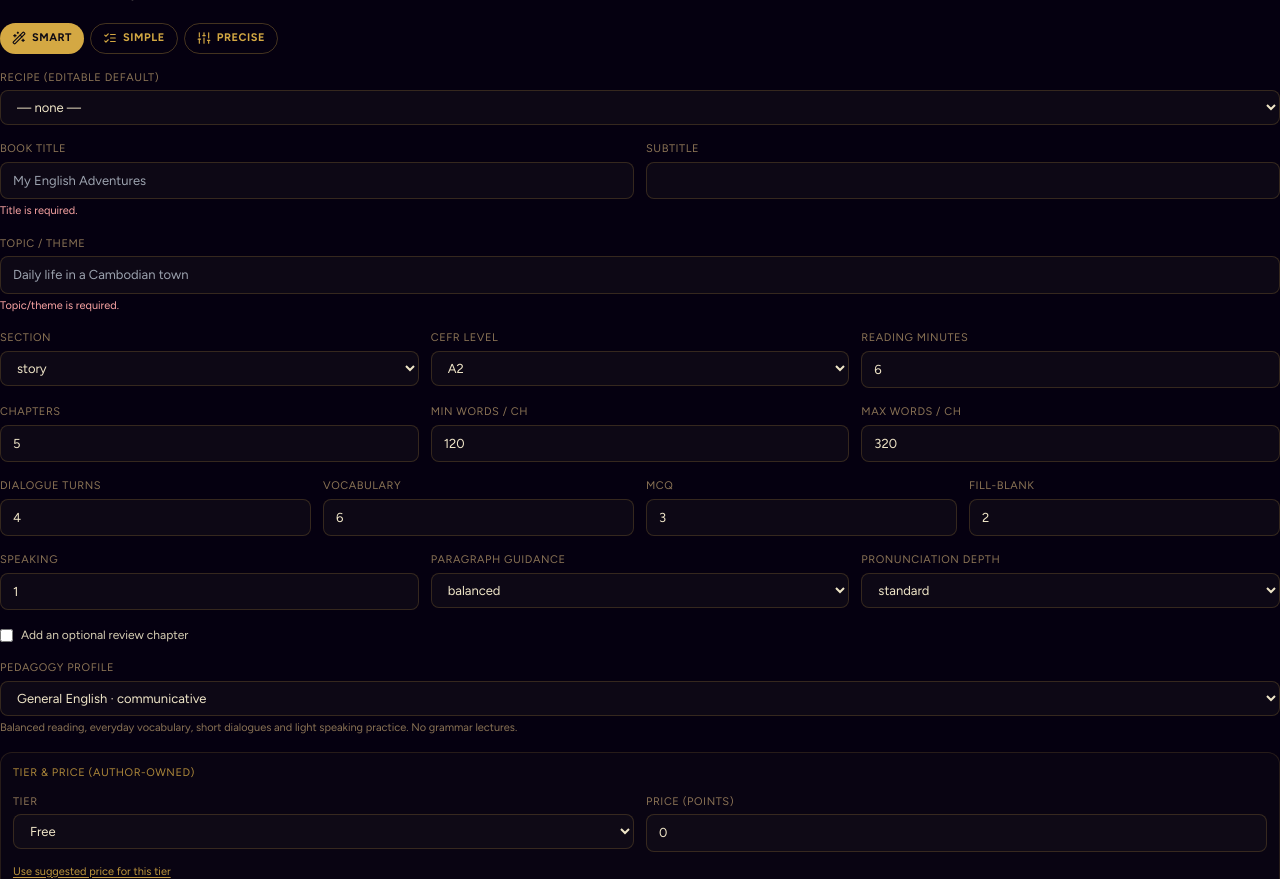
Test: duplicate Generate is prevented (synchronous guard)
The image size is (1280, 879).
Later steps or results of the test are not shown.
Step 1. Type "T" into the field with test id "bf-title" → {"x": 317, "y": 180}, box [0,162,634,199]
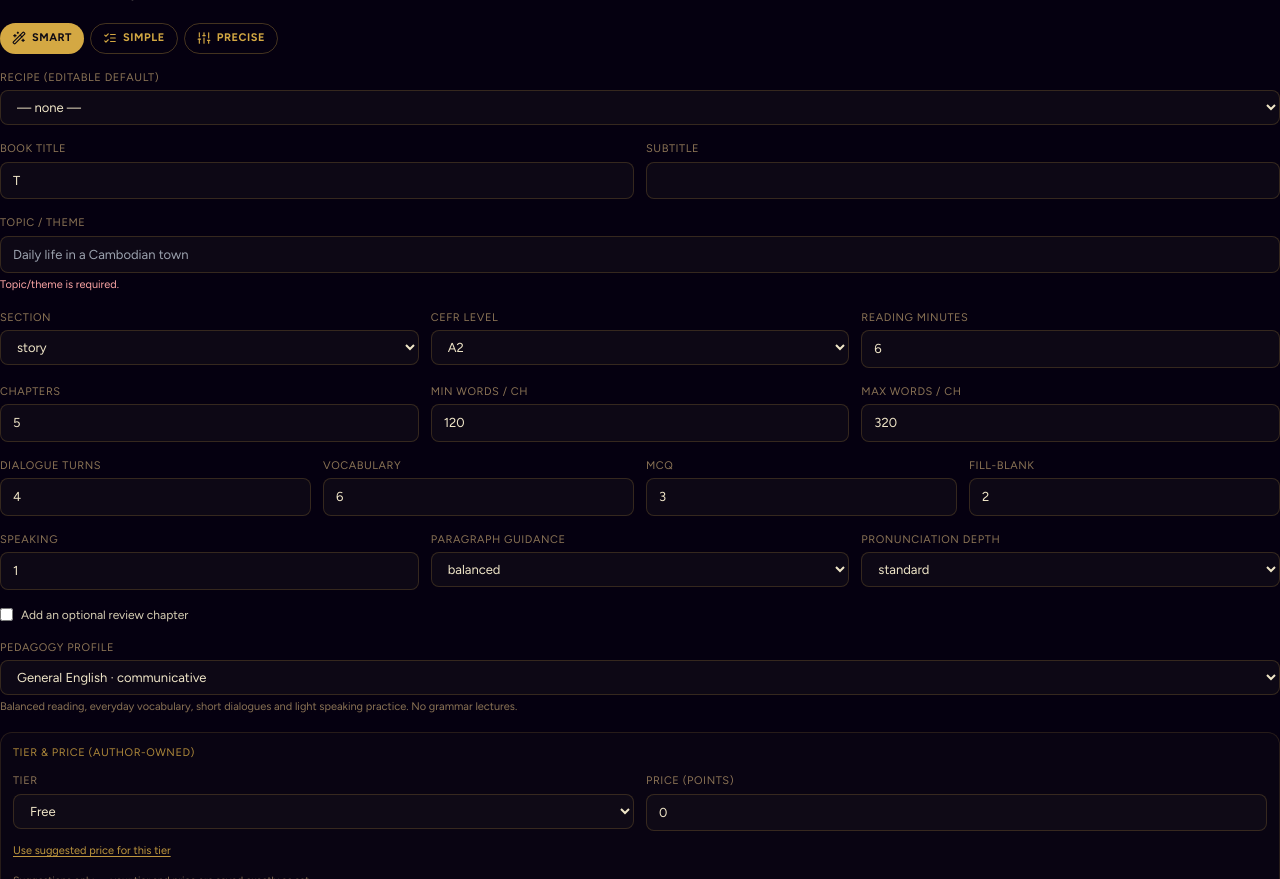
Step 2. Type "Topic" into the field with test id "bf-topic" → {"x": 640, "y": 254}, box [0,236,1279,273]
(page scrolled)
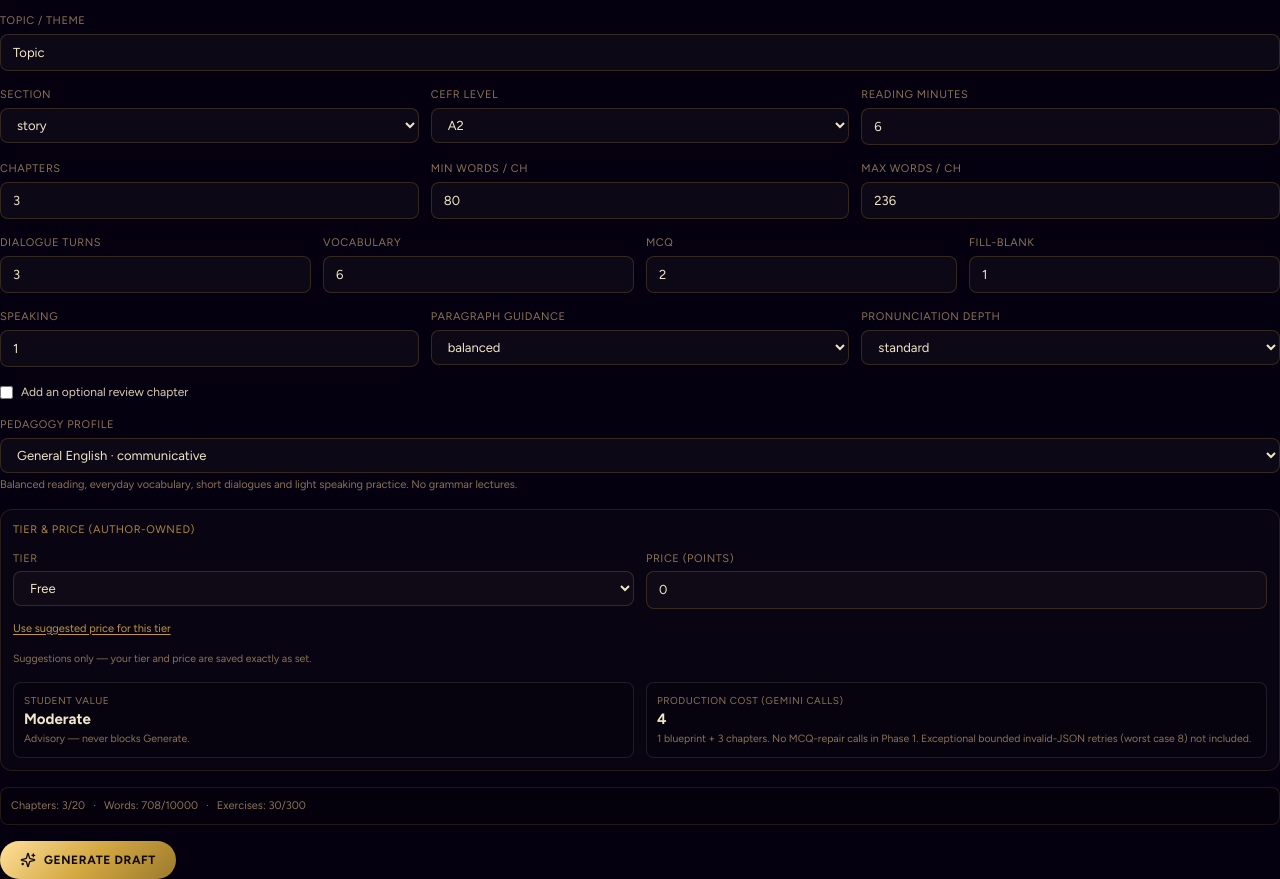
Step 3. Click the button with test id "bf-generate-btn" → {"x": 88, "y": 860}, box [0,841,176,878]
(page scrolled)
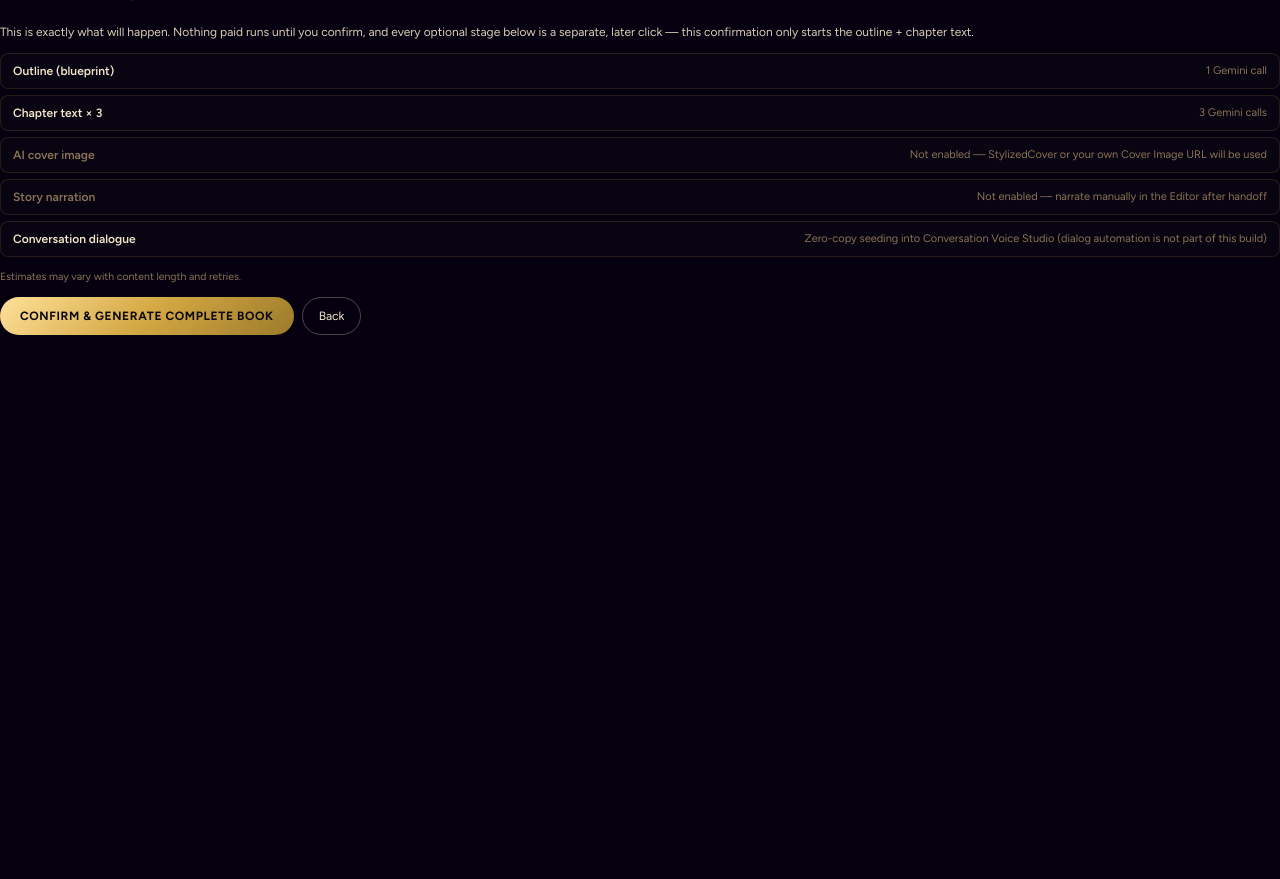
Expected: the button with test id "bf-plan-confirm" is shown, [0,297,294,335]
